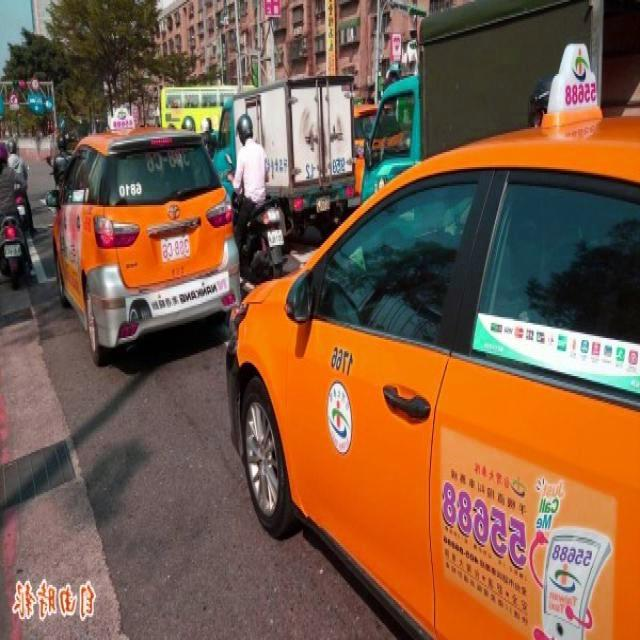taxi: (228, 37, 640, 640), (45, 75, 220, 397)
